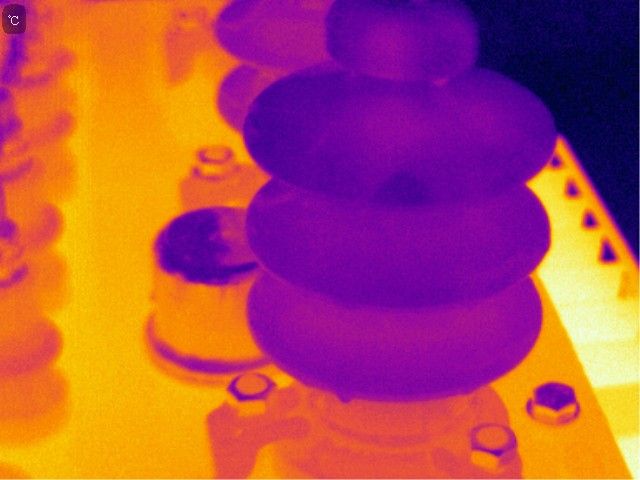Oil: (332, 95, 444, 186), (348, 14, 419, 85), (330, 389, 361, 408), (430, 69, 451, 87), (461, 297, 480, 311)
